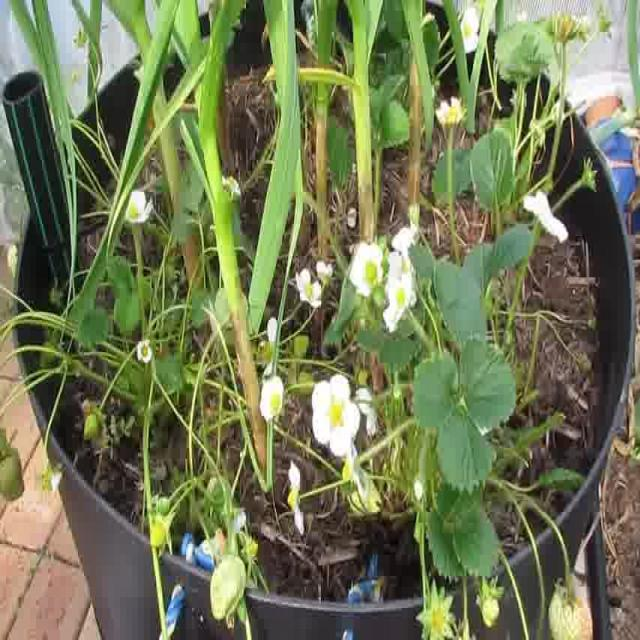Fruta sana: (0, 447, 25, 500), (480, 597, 500, 628), (84, 412, 102, 442), (150, 520, 166, 548)
Moho gris: (548, 586, 594, 640)
